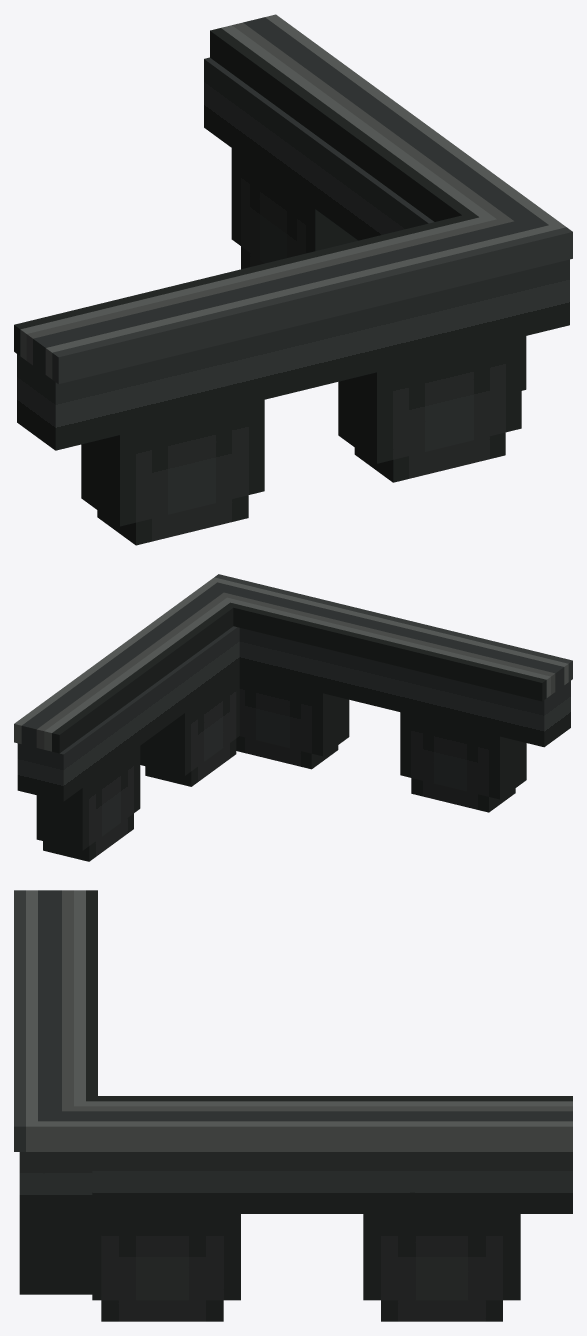
Rendered from CMU3DHybrisaPlatformThreeCorner.glb.
3 views of the same model, one above another, from view 1: azimuth 30°, elevation 25°; view 2: azimuth 150°, elevation 25°; view 3: azimuth 270°, elevation 25° (orthographic). The views are drawn at different scales.
Visible parts, largest first — view 1: source Beam, source cap 11, source LeftSupport, source RightSupport, east source Beam, source cap 1, east source RightSupport, source cap 8, source cap 7, source cap 10, source cap 6, source cap 4 (+6 smaller); view 2: source Beam, east source Beam, source LeftSupport, source cap 2, source RightSupport, east source RightSupport, east source LeftSupport, source cap 1, source cap 8, source cap 7, source cap 10, source cap 11 (+9 smaller); view 3: east source Beam, source cap 9, east source RightSupport, east source LeftSupport, source cap 7, source cap 8, source Beam, source RightSupport, source cap 10, source cap 11, source cap 5, source cap 3 (+8 smaller).
Part boxes in pixels (x1,y1,x2,y2): source Beam: [17, 259, 569, 450]; source cap 11: [52, 227, 572, 384]; source LeftSupport: [81, 400, 264, 526]; source RightSupport: [338, 337, 521, 463]; east source Beam: [204, 57, 433, 240]; source cap 1: [210, 28, 472, 221]; east source RightSupport: [231, 148, 357, 263]; source cap 8: [33, 216, 548, 374]; source cap 7: [243, 17, 535, 221]; source cap 10: [45, 222, 566, 379]; source cap 6: [26, 216, 513, 365]; source cap 4: [20, 214, 496, 360]; source Beam: [239, 628, 570, 747]; east source Beam: [17, 626, 239, 801]; source LeftSupport: [400, 712, 526, 799]; source cap 2: [226, 602, 546, 701]; source RightSupport: [239, 673, 349, 756]; east source RightSupport: [36, 746, 140, 850]; east source LeftSupport: [140, 676, 236, 775]; source cap 1: [52, 606, 233, 753]; source cap 8: [209, 582, 564, 691]; source cap 7: [21, 589, 223, 747]; source cap 10: [210, 577, 568, 684]; source cap 11: [214, 574, 572, 681]; east source Beam: [92, 1152, 572, 1213]; source cap 9: [38, 1121, 572, 1151]; east source RightSupport: [363, 1214, 520, 1300]; east source LeftSupport: [101, 1214, 240, 1300]; source cap 7: [62, 1111, 572, 1121]; source cap 8: [38, 890, 61, 1121]; source Beam: [19, 1152, 92, 1216]; source RightSupport: [19, 1216, 92, 1280]; source cap 10: [26, 890, 37, 1151]; source cap 11: [14, 890, 25, 1151]; source cap 5: [74, 1106, 572, 1111]; source cap 3: [86, 1101, 572, 1106].
Bounding box in the file's own units: 1 × 0.39 × 1.
9 materials, 4 textured.
